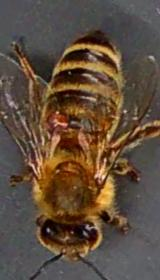varroa_mite: (44, 111, 72, 128)
